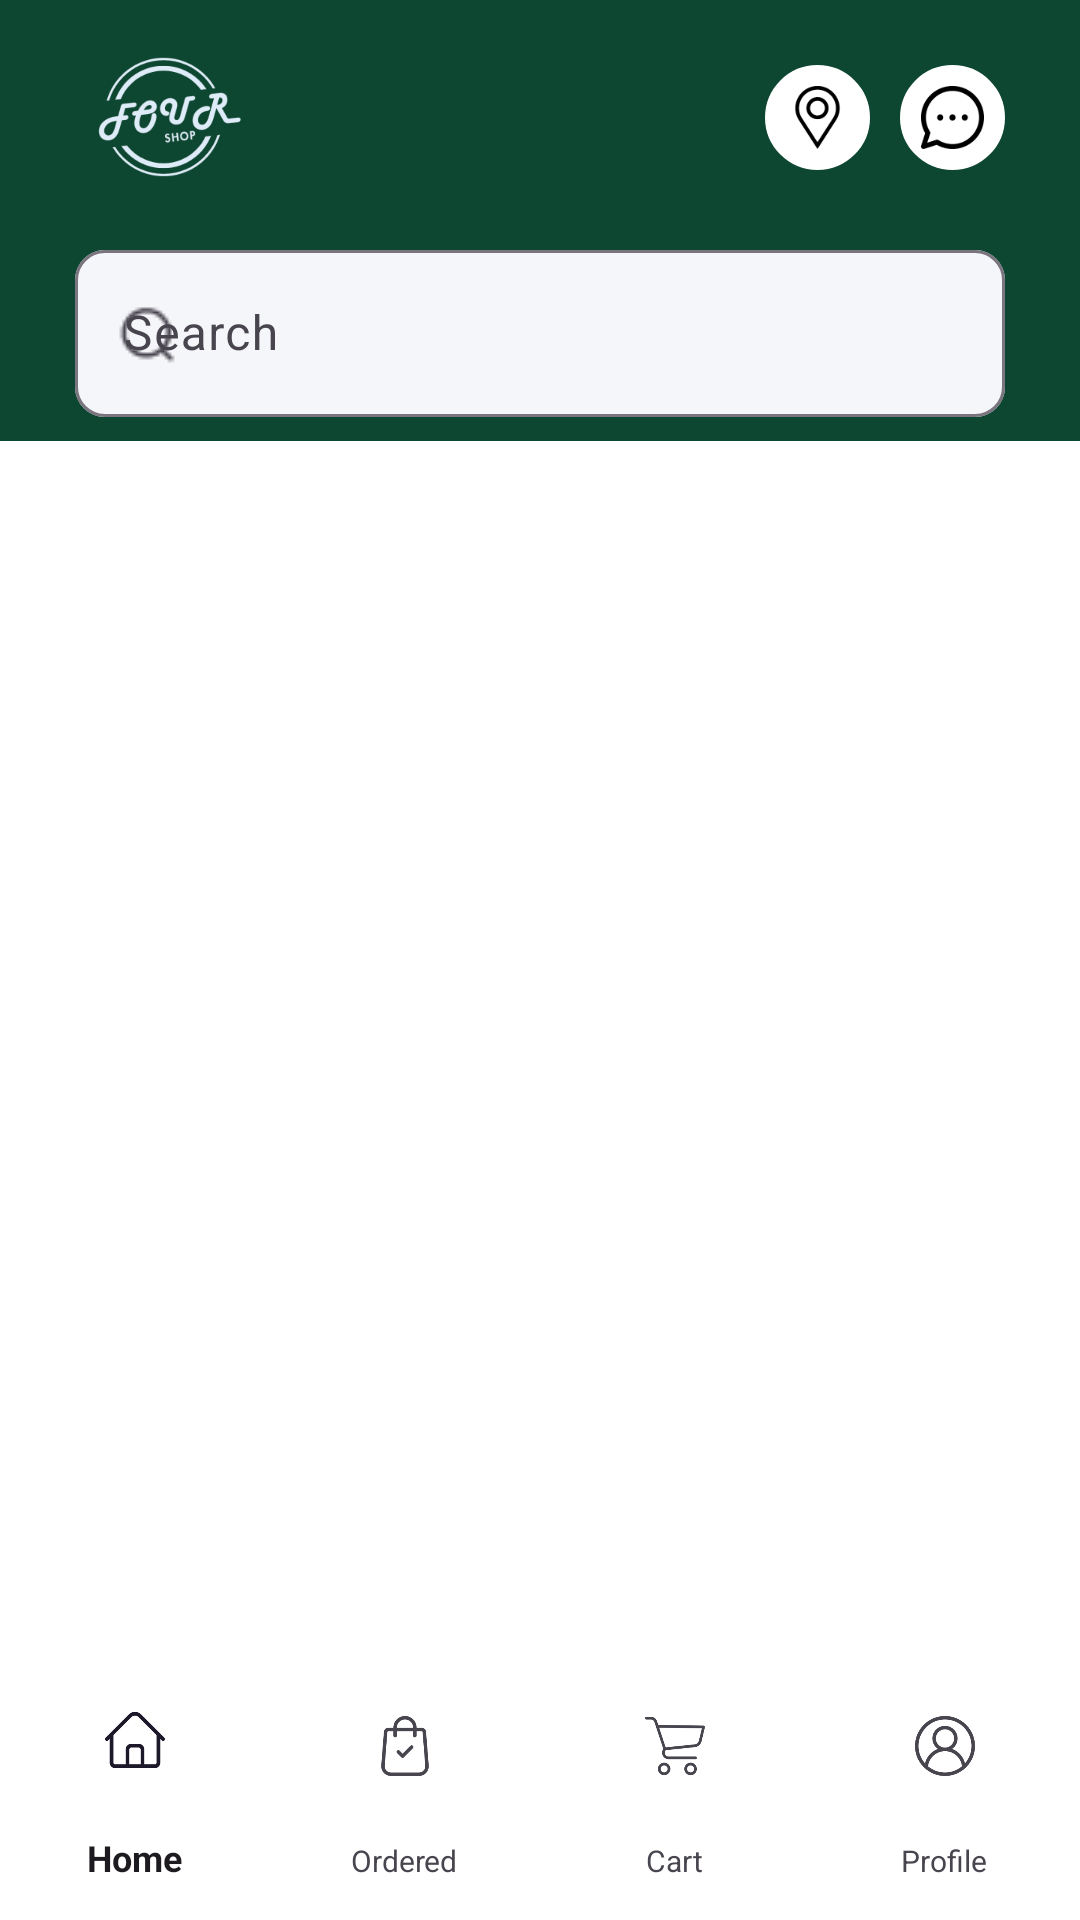

Where icons sit on this 1080 x 1920 app screen, as (x1=x1, y1=y1, x2=x2, y2=y2):
location: (x1=765, y1=65, x2=870, y2=170)
messenger: (x1=900, y1=65, x2=1005, y2=170)
